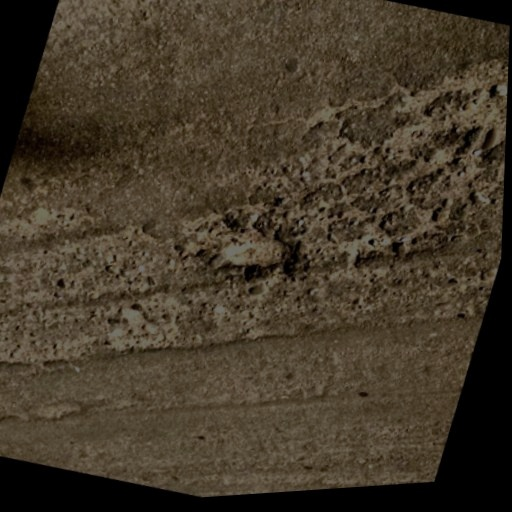pothole: (210, 223, 301, 288)
